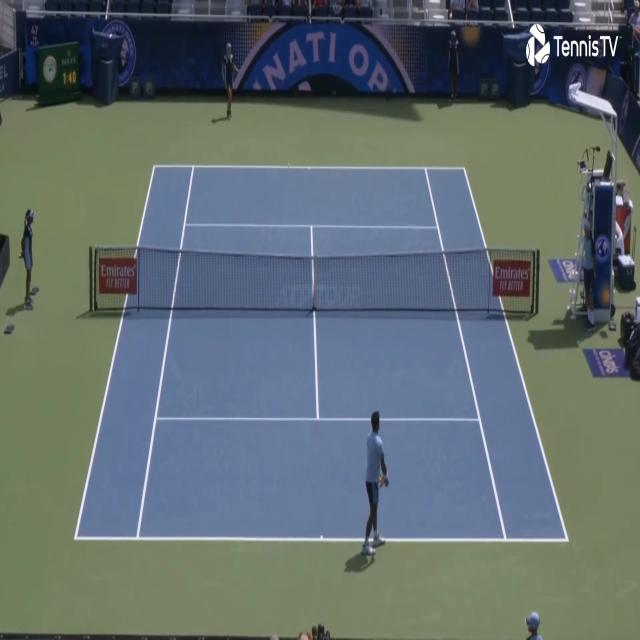tennis-player: (358, 407, 392, 562)
